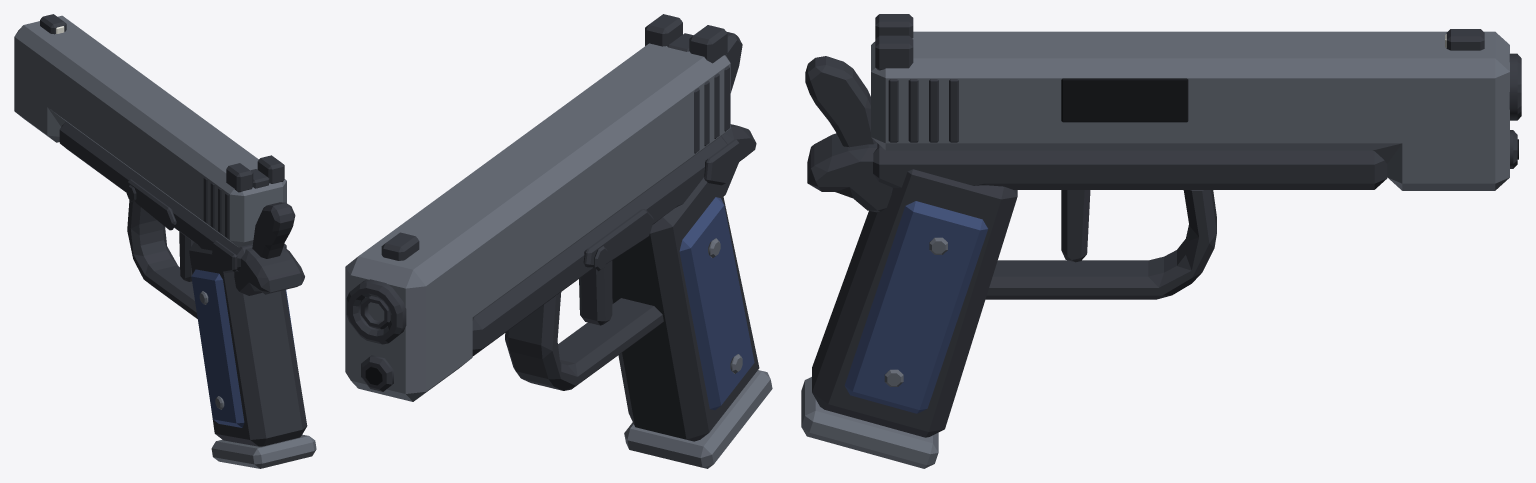
Rendered from w_pistol.glb.
3 views of the same model, side by side, from view 1: azimuth 30°, elevation 25°; view 2: azimuth 150°, elevation 25°; view 3: azimuth 270°, elevation 25° (orthographic). The views are drawn at different scales.
Parts seen in each view (by area): view 1: slide_wzA, grip_wzB, body_wzB, grip_wzA, slide_wzN, mag_wzN, hammer_wzN, body_wzN; view 2: slide_wzA, body_wzB, grip_wzB, grip_wzA, slide_wzN, mag_wzN, body_wzN, hammer_wzN; view 3: slide_wzA, body_wzB, grip_wzB, grip_wzA, slide_wzN, slide_wzN.001, mag_wzN, hammer_wzN.
Part boxes in pixels (box(x1,y1,x2,y2)): slide_wzA: box(14, 15, 286, 247); grip_wzB: box(189, 242, 307, 446); body_wzB: box(59, 122, 286, 318); grip_wzA: box(191, 269, 296, 427); slide_wzN: box(40, 14, 284, 238); mag_wzN: box(211, 434, 316, 468); hammer_wzN: box(252, 202, 295, 258); body_wzN: box(126, 179, 237, 273); slide_wzA: box(345, 43, 730, 401); body_wzB: box(360, 136, 727, 390); grip_wzB: box(612, 124, 759, 441); grip_wzA: box(679, 197, 754, 410); slide_wzN: box(346, 14, 729, 391); mag_wzN: box(624, 370, 772, 468); body_wzN: box(583, 139, 739, 271); hammer_wzN: box(725, 31, 742, 92); slide_wzA: box(871, 31, 1509, 190); body_wzB: box(873, 143, 1387, 299); grip_wzB: box(807, 133, 1017, 437); grip_wzA: box(844, 201, 987, 413); slide_wzN: box(875, 14, 1521, 168); slide_wzN.001: box(1061, 78, 1518, 159); mag_wzN: box(801, 377, 938, 468); hammer_wzN: box(805, 56, 876, 147).
Bounding box in the file's own units: 0.058 × 0.2202 × 0.3404.
